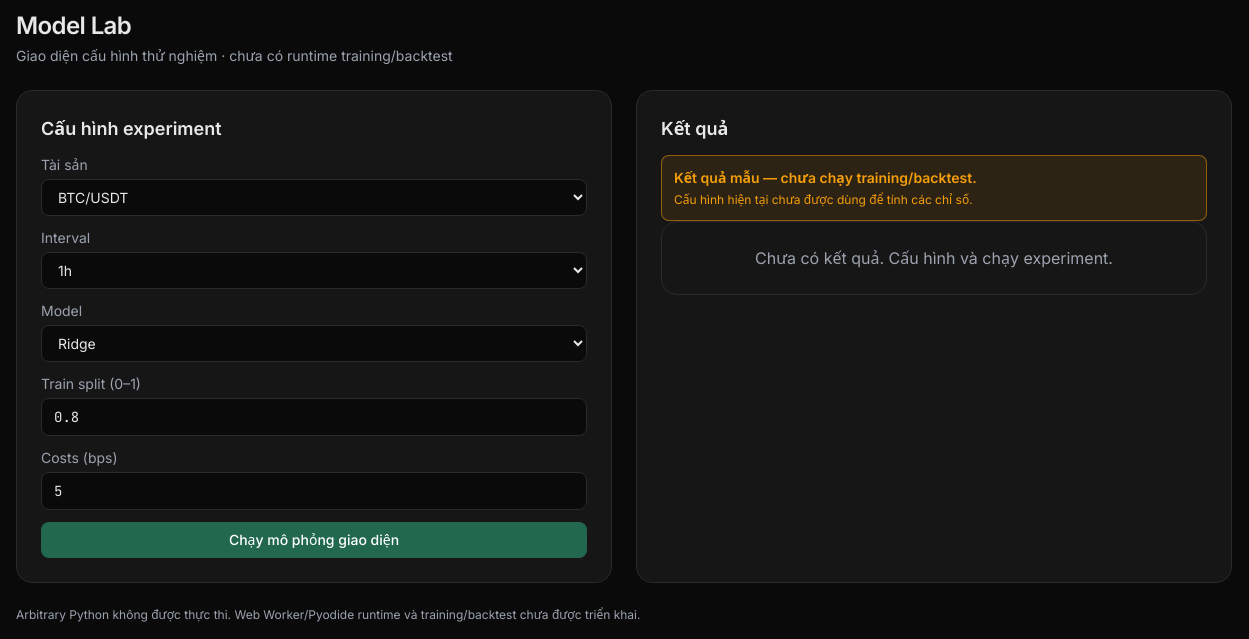
it: Model Lab placeholder › labels placeholder results as simulated before and after running
Check: the text "Kết quả mẫu — chưa chạy training/backtest." is shown, box [674, 169, 977, 186]
Check: the text "Cấu hình hiện tại chưa được dùng để tính các chỉ số." is shown, box [674, 192, 973, 207]
Click the button "Chạy mô phỏng giao diện" at (314, 540), box [41, 522, 587, 558]
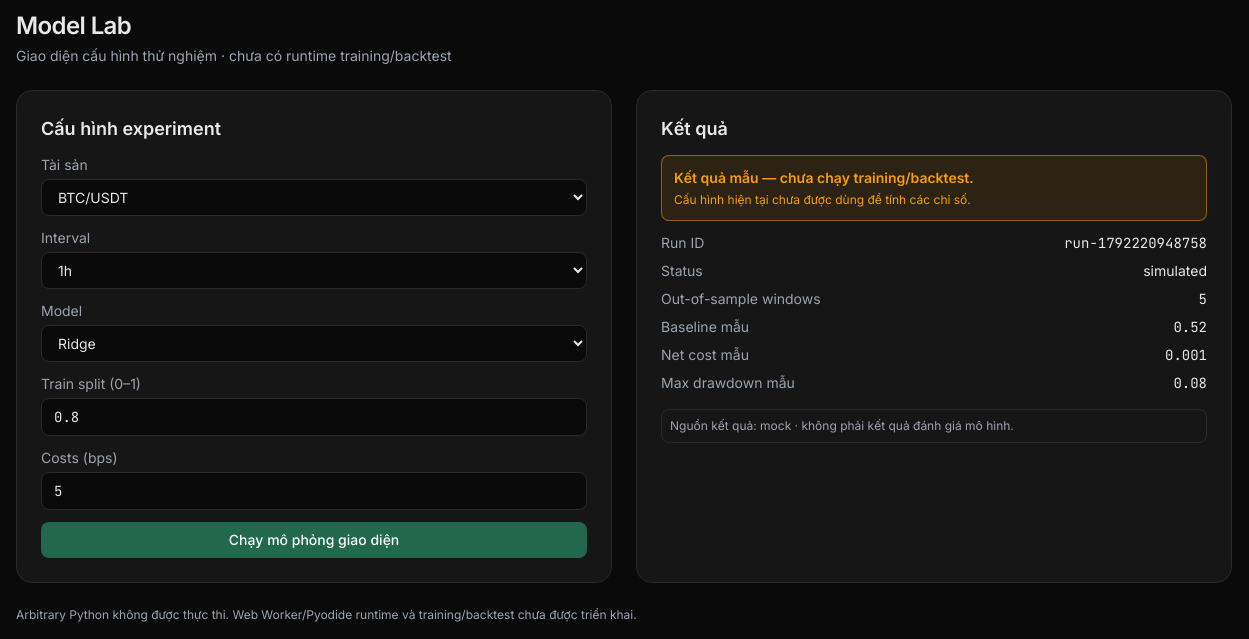
Check: the text "simulated" is shown, box [1143, 261, 1207, 281]
Check: the text "Nguồn kết quả: mock · không phải kết quả đánh giá mô hình." is shown, box [661, 409, 1207, 443]
